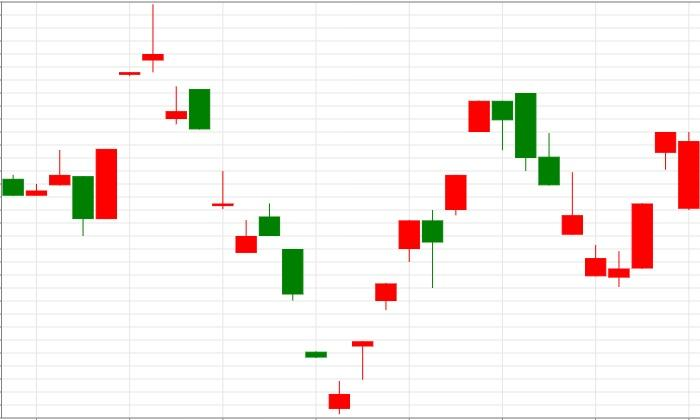three_white_soldiers_rise: (515, 93, 677, 288)
